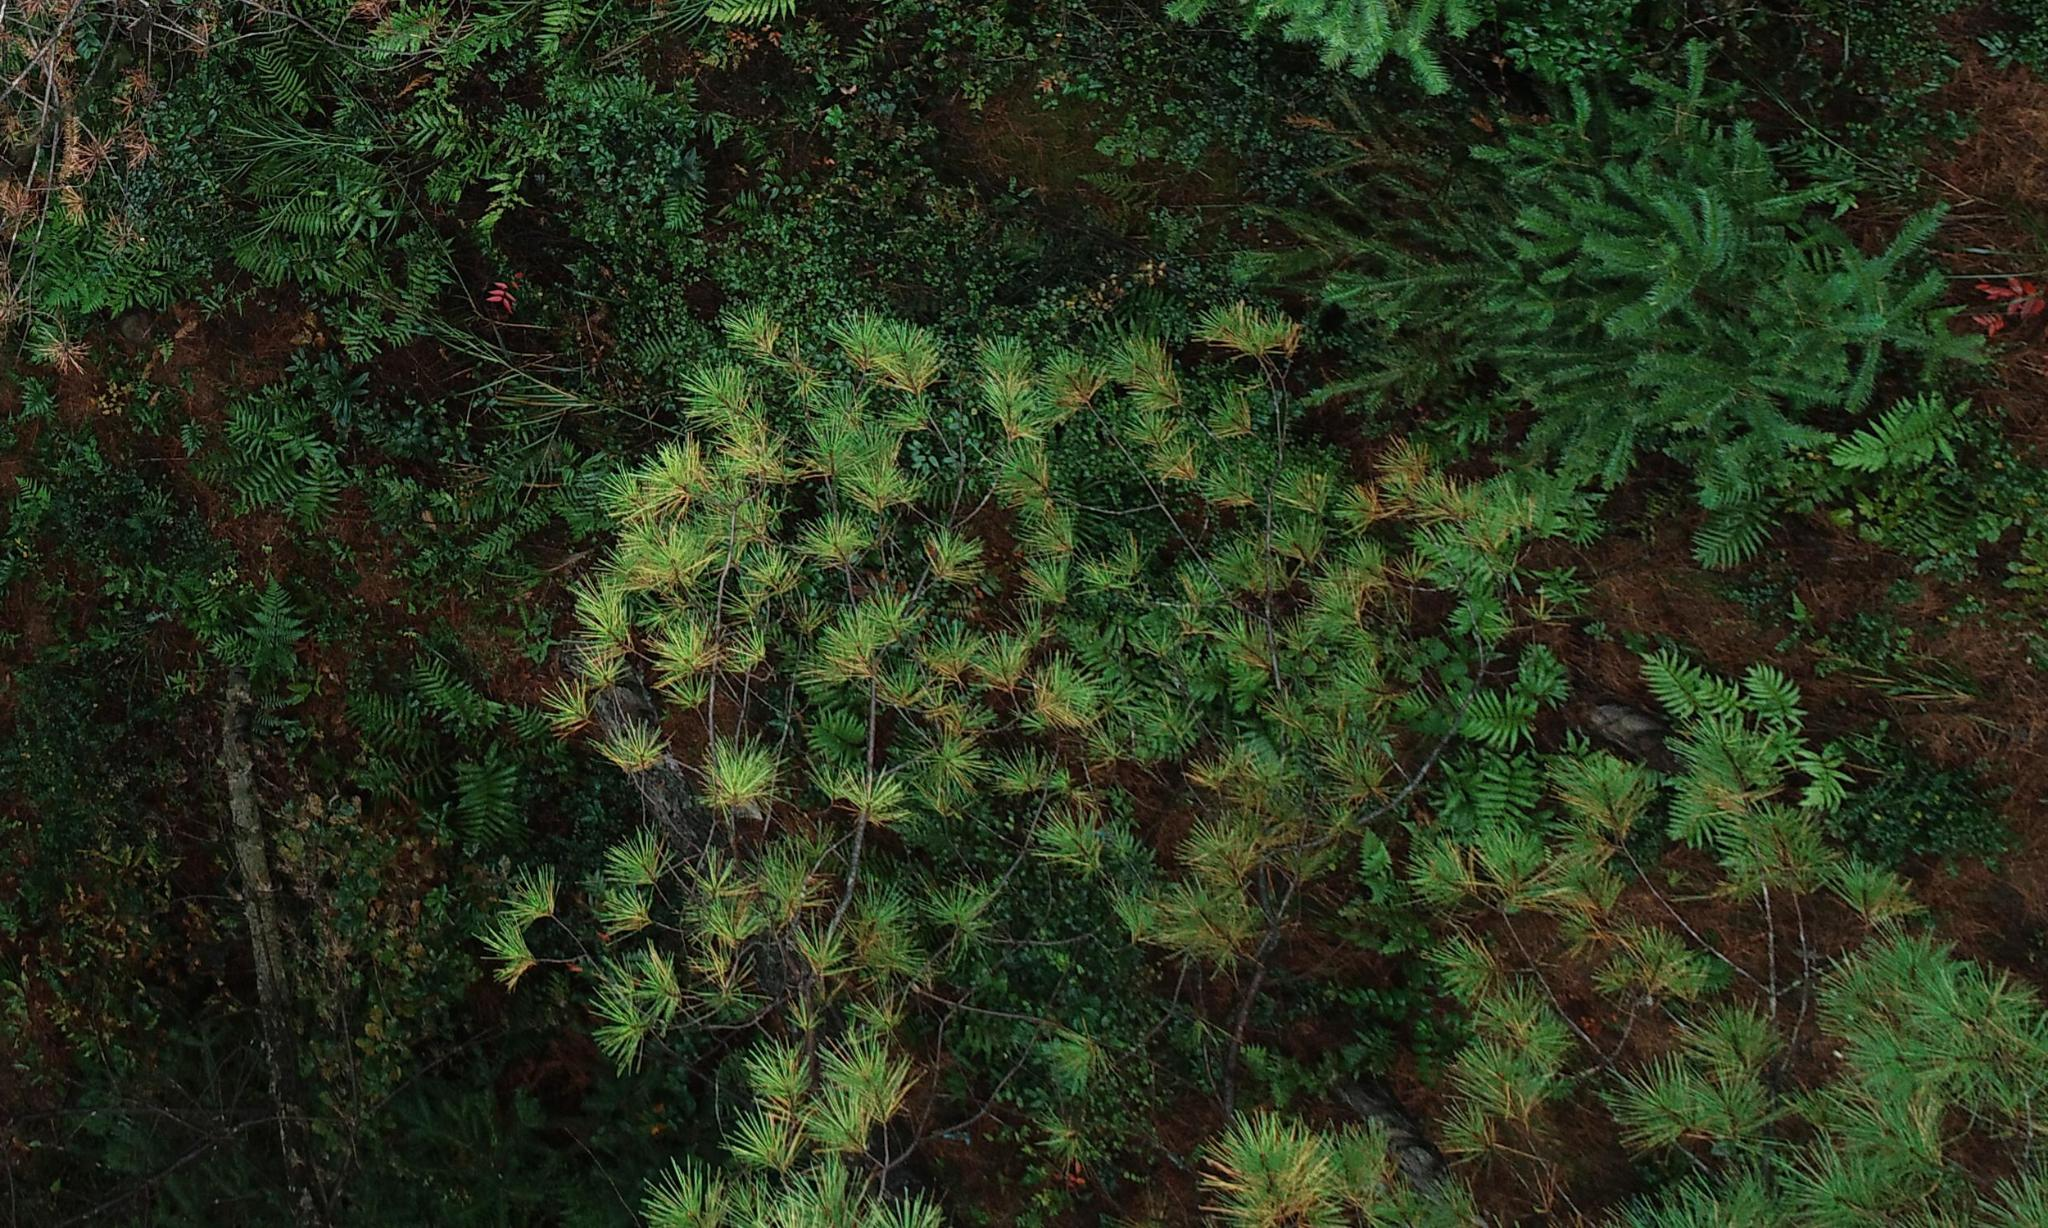light: (534, 323, 1395, 1200)
